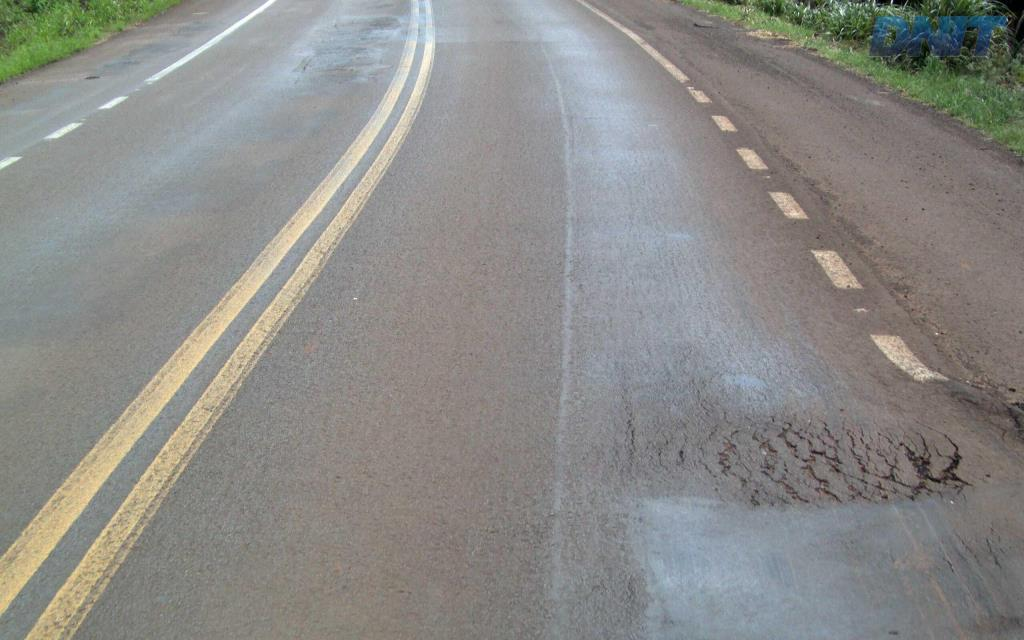crack: (713, 413, 977, 509)
